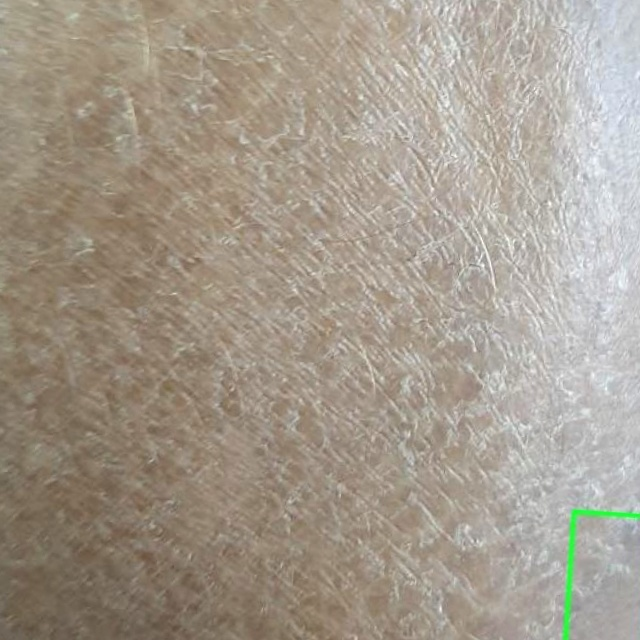Tinea Corporis: (565, 511, 639, 639)
